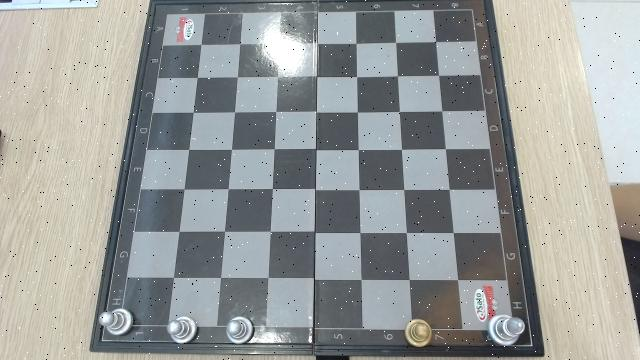black_pawn: (404, 319, 433, 348)
white_bishop: (487, 314, 526, 347)
white_pawn: (97, 307, 134, 337), (166, 316, 198, 345), (225, 316, 254, 345)
